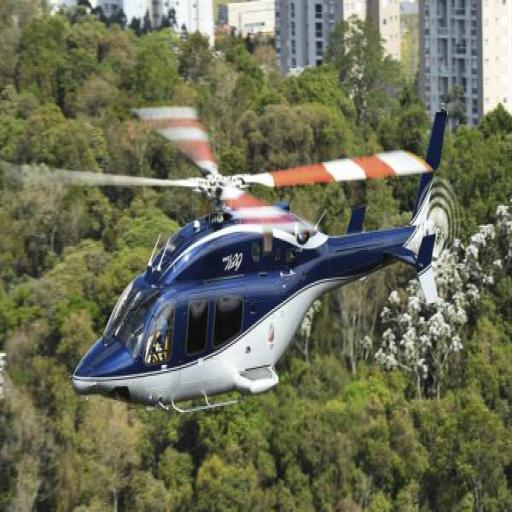helicopter: (62, 68, 457, 433)
